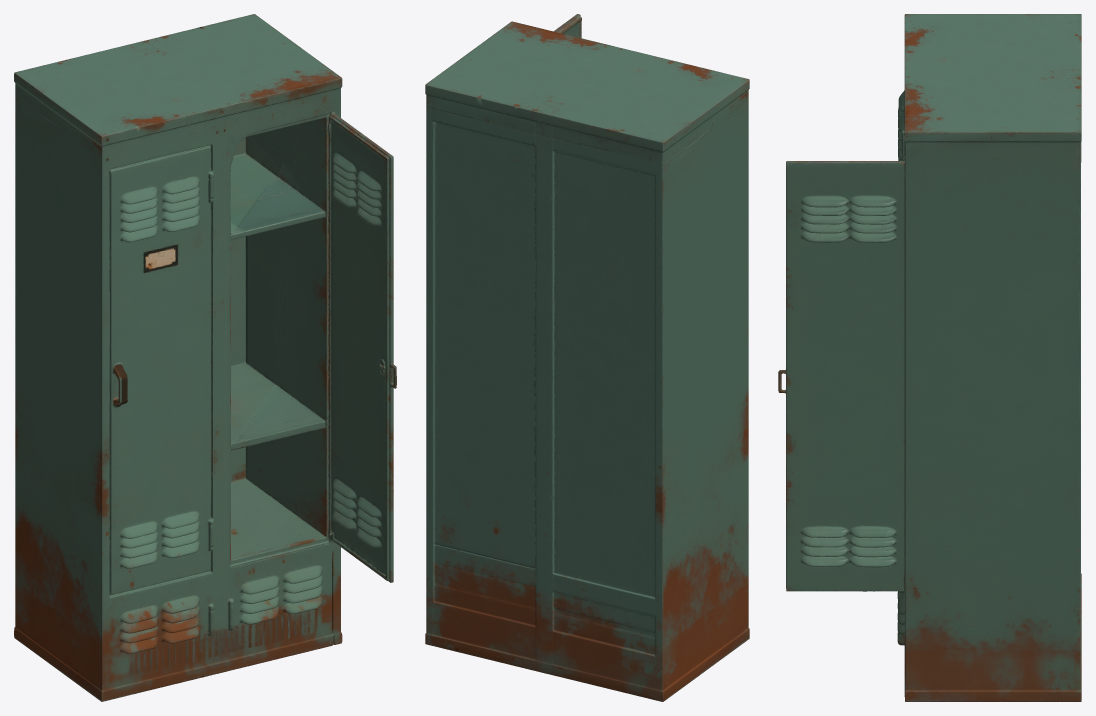
The model's file is Battered_workers_double_locker.glb.
The picture shows the model from 3 angles, left to right: view 1: azimuth 30°, elevation 25°; view 2: azimuth 150°, elevation 25°; view 3: azimuth 270°, elevation 25°; orthographic projection.
Bounding box in the file's own units: 0.8462 × 1.9 × 0.9161.
1 material, 1 textured.
